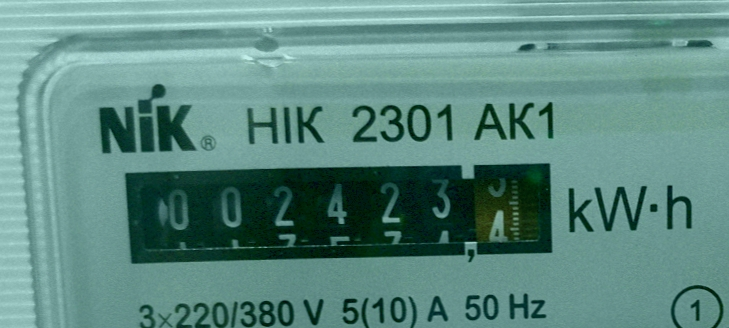0: (166, 184, 194, 232), (220, 184, 245, 229)
2: (271, 181, 298, 228), (379, 179, 403, 225)
3: (430, 175, 454, 220), (487, 174, 509, 197)
4: (326, 180, 349, 226), (486, 205, 512, 243)
screen: (115, 151, 567, 275)
